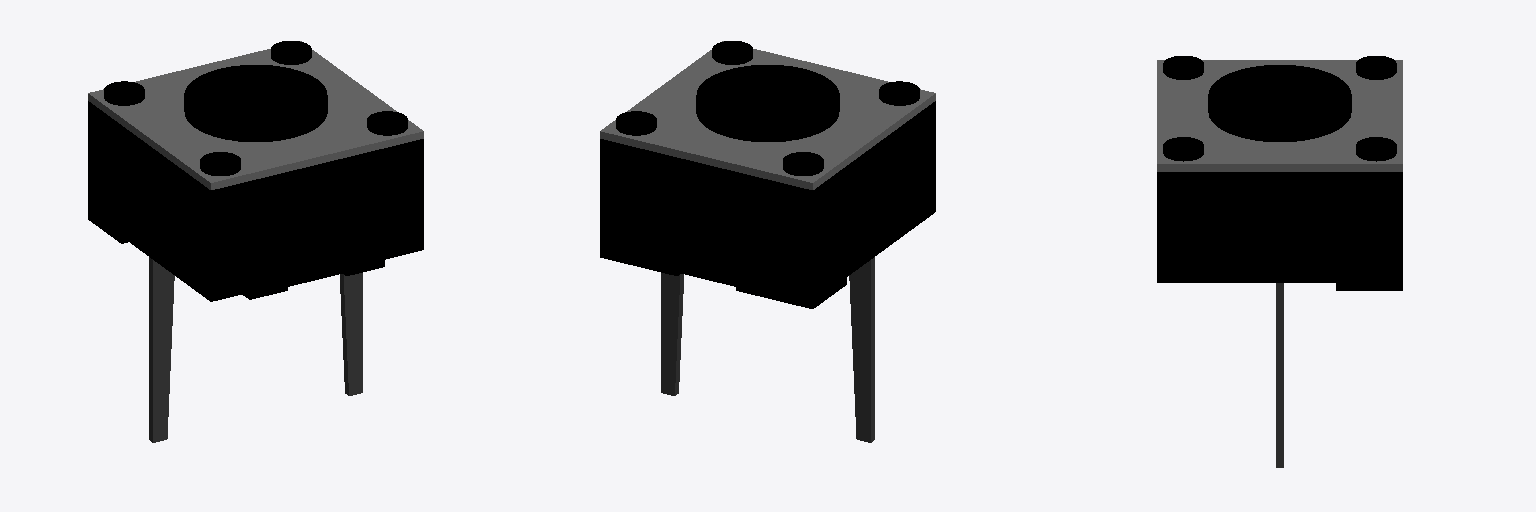
Rendered from PushButton2.obj.
3 views of the same model, side by side, from view 1: azimuth 30°, elevation 25°; view 2: azimuth 150°, elevation 25°; view 3: azimuth 270°, elevation 25° (orthographic).
Parts seen in each view (by area): view 1: Cube_Cube.002, Cylinder, Cube.001_Cube.003, Cube.002_Cube.004, Cylinder.003, Cylinder.002, Cylinder.004, Cylinder.001; view 2: Cube_Cube.002, Cylinder, Cube.001_Cube.003, Cube.002_Cube.004, Cylinder.001, Cylinder.004, Cylinder.002, Cylinder.003; view 3: Cube_Cube.002, Cylinder, Cube.002_Cube.004, Cylinder.001, Cylinder.002, Cylinder.003, Cylinder.004.
Boxes of the visible parts, x1=… form: Cube_Cube.002: x1=88, y1=41, x2=423, y2=301; Cylinder: x1=184, y1=65, x2=327, y2=141; Cube.001_Cube.003: x1=149, y1=257, x2=174, y2=442; Cube.002_Cube.004: x1=340, y1=273, x2=362, y2=395; Cylinder.003: x1=367, y1=111, x2=407, y2=135; Cylinder.002: x1=104, y1=81, x2=144, y2=105; Cylinder.004: x1=200, y1=152, x2=240, y2=175; Cylinder.001: x1=271, y1=41, x2=311, y2=64; Cube_Cube.002: x1=600, y1=41, x2=935, y2=308; Cylinder: x1=696, y1=65, x2=839, y2=141; Cube.001_Cube.003: x1=849, y1=257, x2=874, y2=442; Cube.002_Cube.004: x1=661, y1=273, x2=683, y2=395; Cylinder.001: x1=616, y1=111, x2=656, y2=135; Cylinder.004: x1=879, y1=81, x2=919, y2=105; Cylinder.002: x1=783, y1=152, x2=823, y2=175; Cylinder.003: x1=712, y1=41, x2=752, y2=64; Cube_Cube.002: x1=1157, y1=60, x2=1402, y2=290; Cylinder: x1=1208, y1=65, x2=1351, y2=141; Cube.002_Cube.004: x1=1276, y1=283, x2=1283, y2=467; Cylinder.001: x1=1356, y1=137, x2=1396, y2=161; Cylinder.002: x1=1356, y1=56, x2=1396, y2=79; Cylinder.003: x1=1163, y1=137, x2=1203, y2=161; Cylinder.004: x1=1163, y1=56, x2=1203, y2=79.
Size of the model in its own units: 0.006 by 0.0087 by 0.006.